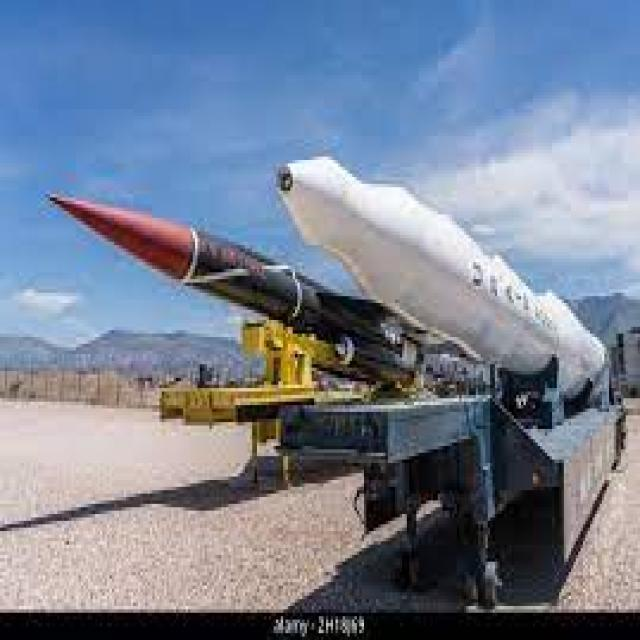missile: (274, 149, 622, 404), (47, 191, 424, 380)
